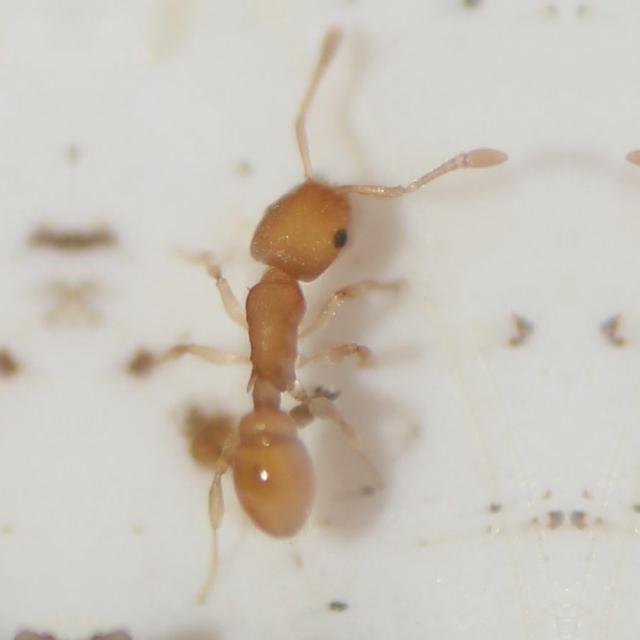Temnothorax: (148, 83, 428, 574)
